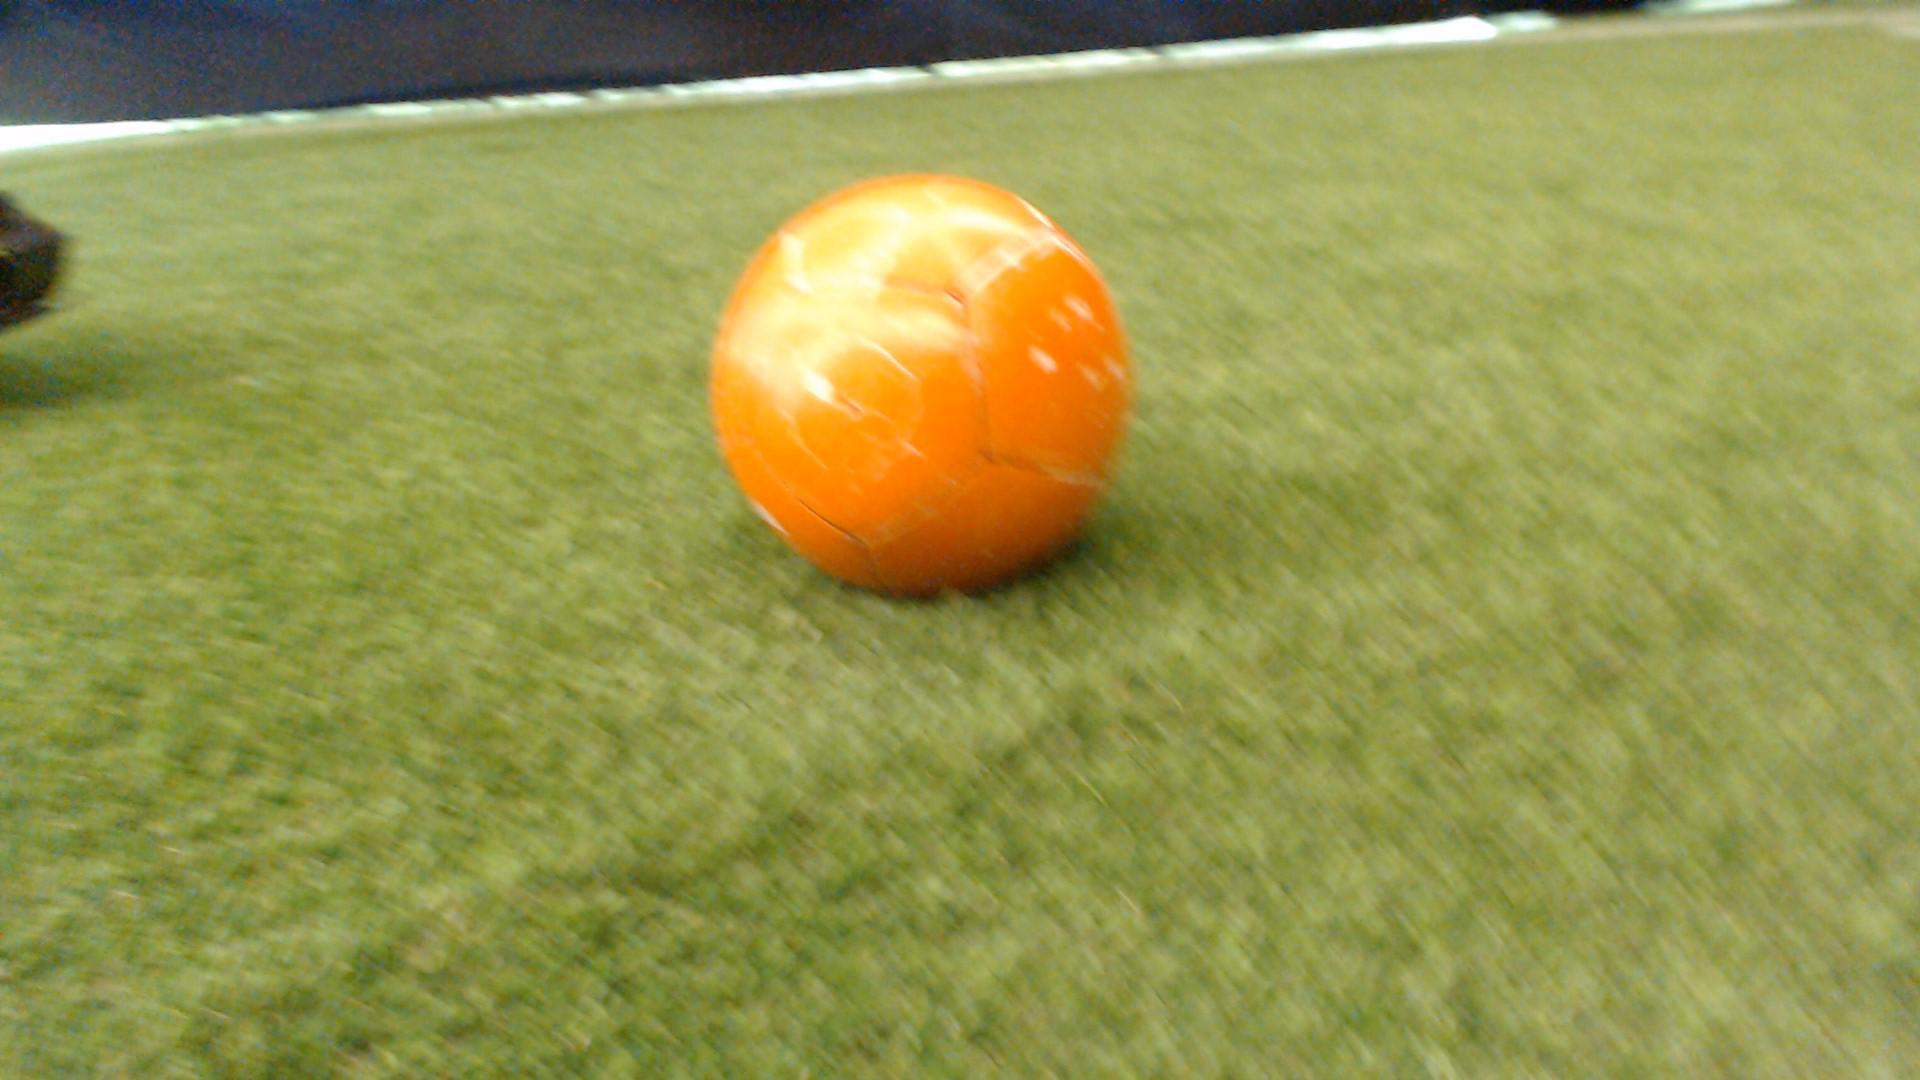bola: (680, 136, 1183, 611)
